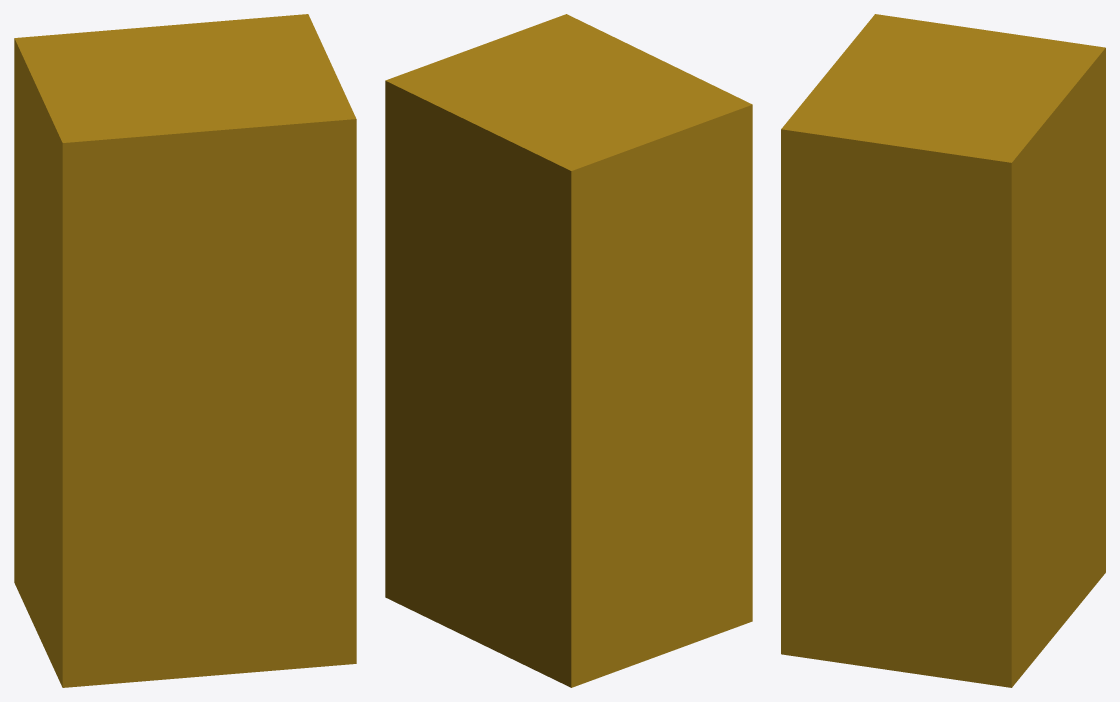
File: cheese01.FBX
3 views of the same model, side by side, from view 1: azimuth 30°, elevation 25°; view 2: azimuth 150°, elevation 25°; view 3: azimuth 270°, elevation 25° (orthographic). The views are drawn at different scales.
Visible parts, largest first — view 1: Box015; view 2: Box015; view 3: Box015.
Boxes of the visible parts, <box> form: Box015: <box>14,14,356,687</box>; Box015: <box>385,14,752,687</box>; Box015: <box>781,14,1105,687</box>.
Bounding box in the file's own units: 380 × 625 × 350.
